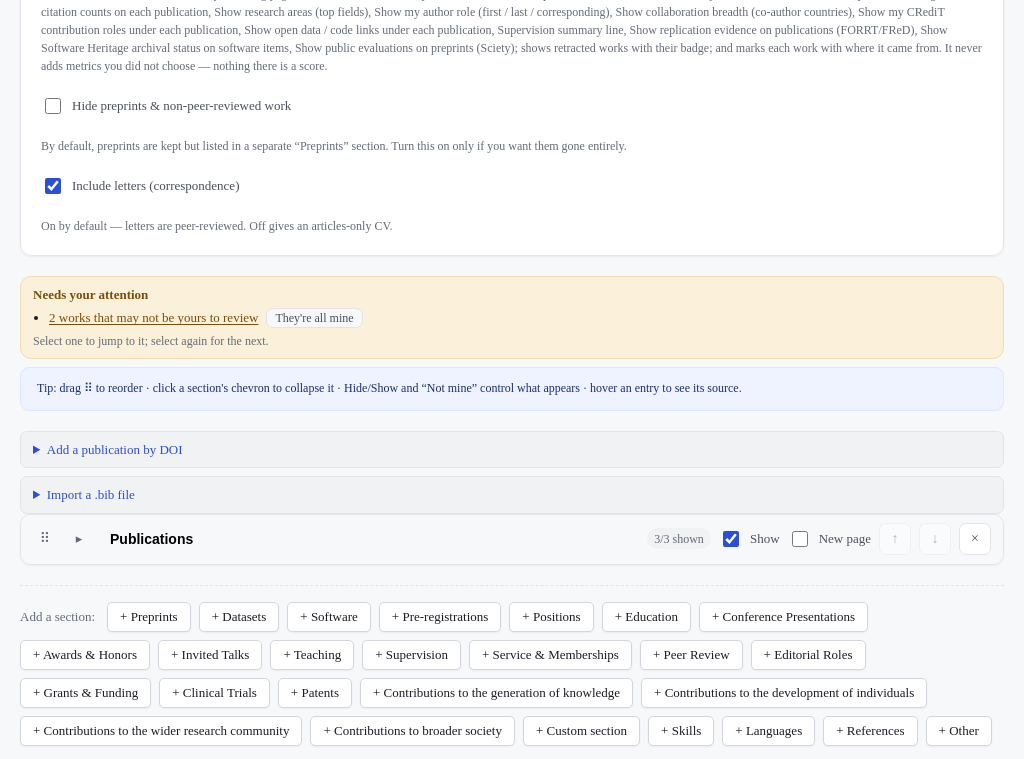
Test: the anonymous preview keeps the doubt, and honours the owner's corrections › still flags a doubtful work — the preview is raw machine output
(page scrolled)
Click the button with class "section-toggle" at (79, 539), box [65,525,93,553]
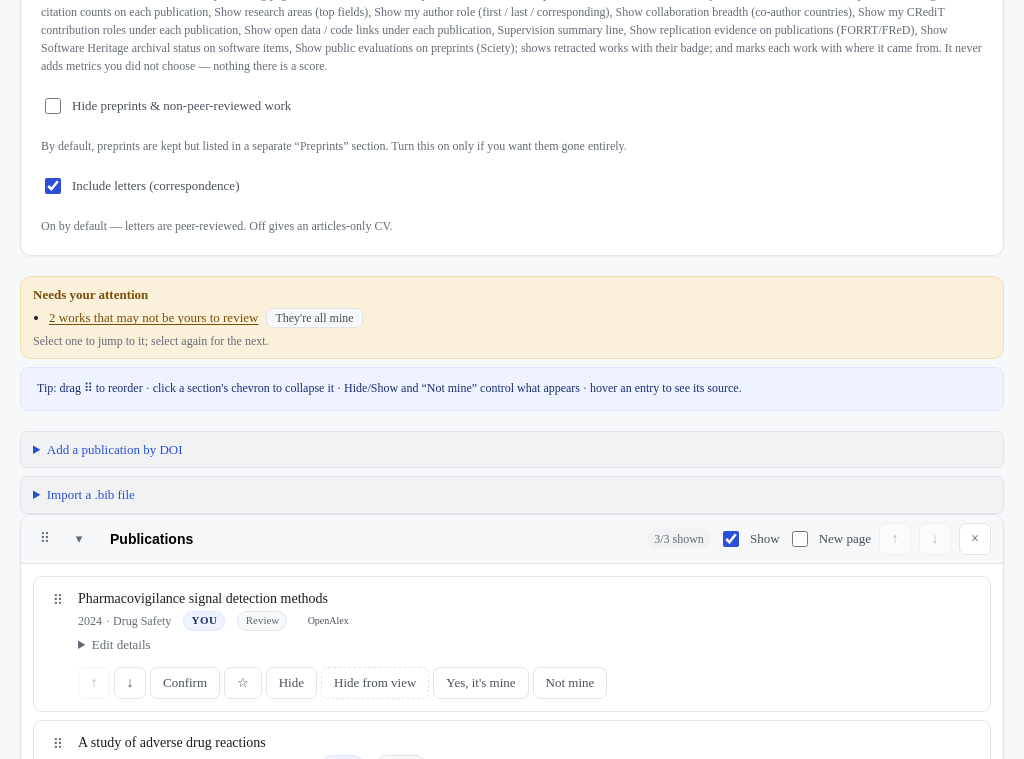
Result: the text "Review" in the row of "Drug Safety" is shown at [238,611,288,631]
